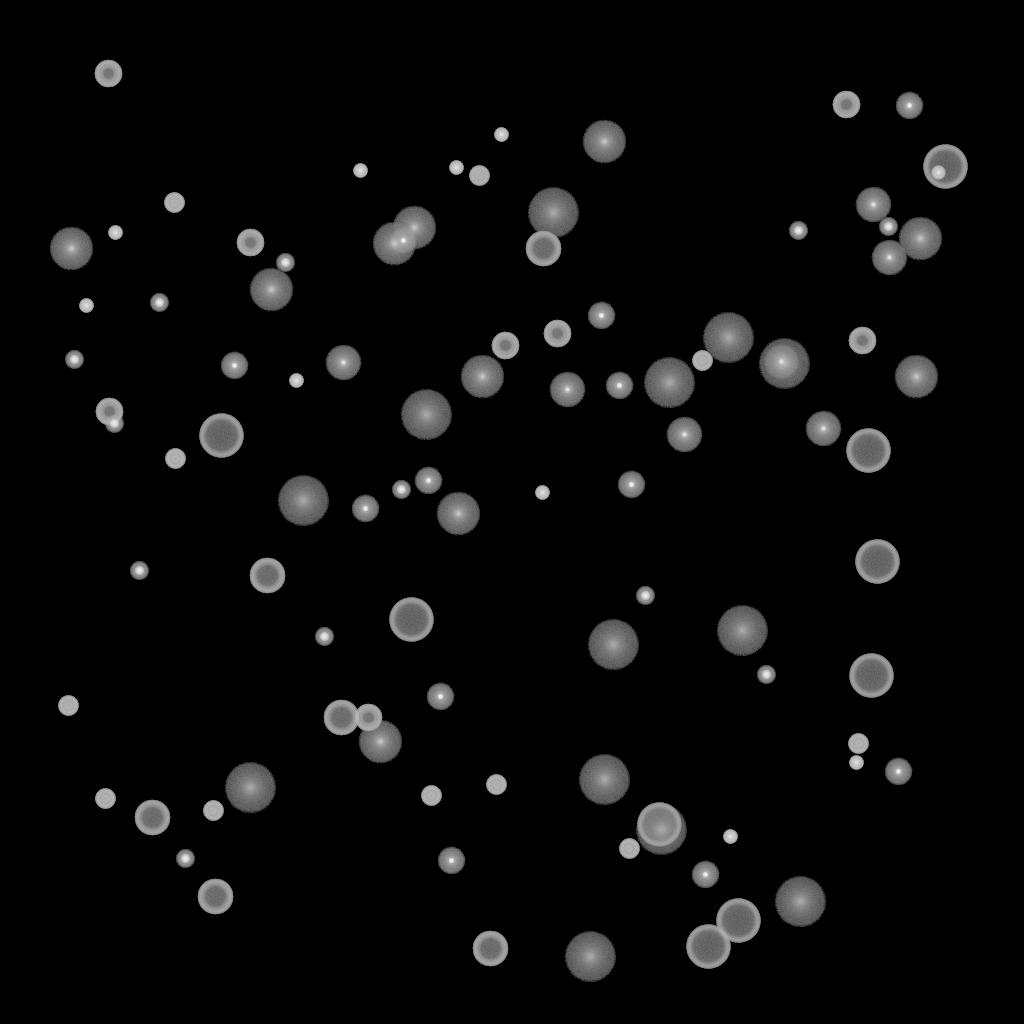depth:-10: (220, 352, 248, 380), (605, 372, 633, 400), (351, 495, 379, 523), (895, 92, 923, 120), (426, 683, 454, 711), (437, 847, 465, 875), (617, 471, 645, 499), (884, 758, 912, 786), (389, 227, 417, 255), (414, 467, 442, 495), (587, 302, 615, 330), (691, 861, 719, 889)
depth:-20: (789, 222, 807, 240), (130, 562, 148, 580), (392, 481, 410, 499), (636, 587, 654, 605), (276, 254, 294, 272), (176, 850, 194, 868), (105, 415, 123, 433), (757, 666, 775, 684), (65, 351, 83, 369), (879, 218, 897, 236), (150, 294, 168, 312), (315, 628, 333, 646)
depth:-30: (535, 486, 549, 500), (353, 164, 367, 178), (289, 374, 303, 388), (79, 299, 93, 313), (849, 756, 863, 770), (108, 226, 122, 240), (449, 161, 463, 175), (723, 830, 737, 844), (494, 128, 508, 142), (931, 166, 945, 180)
depth:-40: (58, 696, 78, 716), (203, 801, 223, 821), (848, 734, 868, 754), (486, 775, 506, 795), (469, 166, 489, 186), (421, 786, 441, 806), (95, 789, 115, 809), (164, 193, 184, 213), (165, 449, 185, 469), (619, 839, 639, 859), (692, 351, 712, 371)
depth:-50: (491, 332, 519, 360), (236, 229, 264, 257), (94, 60, 122, 88), (354, 704, 382, 732), (543, 320, 571, 348), (95, 398, 123, 426), (848, 327, 876, 355), (832, 91, 860, 119)
depth:-60: (525, 231, 561, 267), (472, 931, 508, 967), (197, 879, 233, 915), (249, 558, 285, 594), (323, 700, 359, 736), (134, 800, 170, 836)
depth:-70: (389, 598, 433, 642), (849, 654, 893, 698), (716, 899, 760, 943), (855, 540, 899, 584), (199, 414, 243, 458), (923, 145, 967, 189), (846, 429, 890, 473), (637, 803, 681, 847), (686, 925, 730, 969)
depth:0: (871, 240, 907, 276), (549, 372, 585, 408), (325, 345, 361, 381), (666, 417, 702, 453), (763, 344, 799, 380), (855, 187, 891, 223), (805, 411, 841, 447)
depth:10: (392, 206, 436, 250), (582, 120, 626, 164), (249, 268, 293, 312), (372, 222, 416, 266), (460, 355, 504, 399), (898, 217, 942, 261), (894, 355, 938, 399), (436, 492, 480, 536), (358, 720, 402, 764), (49, 227, 93, 271)
depth:20: (643, 358, 695, 408), (400, 390, 452, 440), (758, 339, 810, 389), (774, 877, 826, 927), (587, 620, 639, 670), (527, 188, 579, 238), (578, 755, 630, 805), (635, 805, 687, 855), (277, 476, 329, 526), (702, 313, 754, 363), (224, 763, 276, 813), (564, 932, 616, 982), (716, 606, 768, 656)
